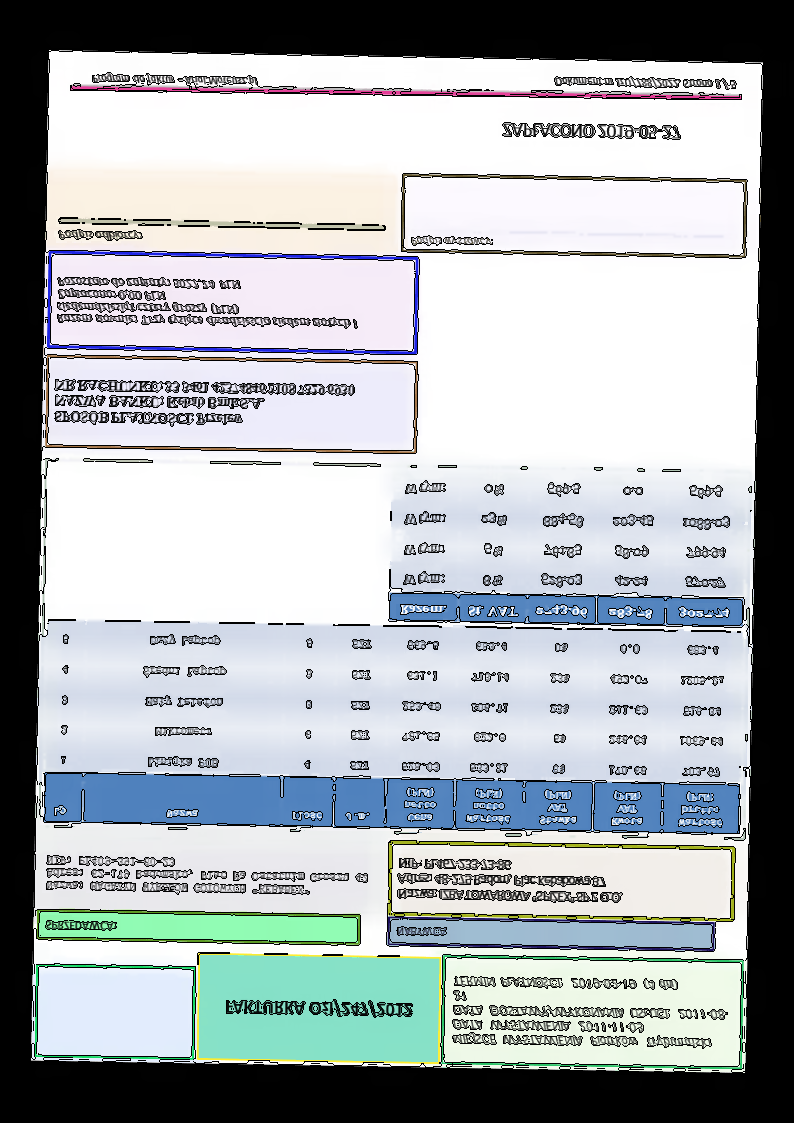Table: (42, 619, 743, 837), (388, 469, 746, 627)
TextBox: (448, 973, 730, 1052), (55, 274, 361, 331), (53, 377, 356, 432), (44, 853, 369, 897), (395, 856, 623, 904), (223, 996, 415, 1020), (500, 121, 684, 144), (552, 74, 738, 92), (88, 71, 261, 89), (55, 227, 143, 243), (43, 917, 118, 933), (410, 235, 494, 249), (393, 923, 449, 940)
